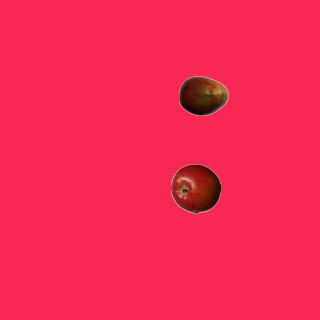Apple Braeburn: (170, 163, 220, 213)
Mango Red: (178, 70, 228, 120)
